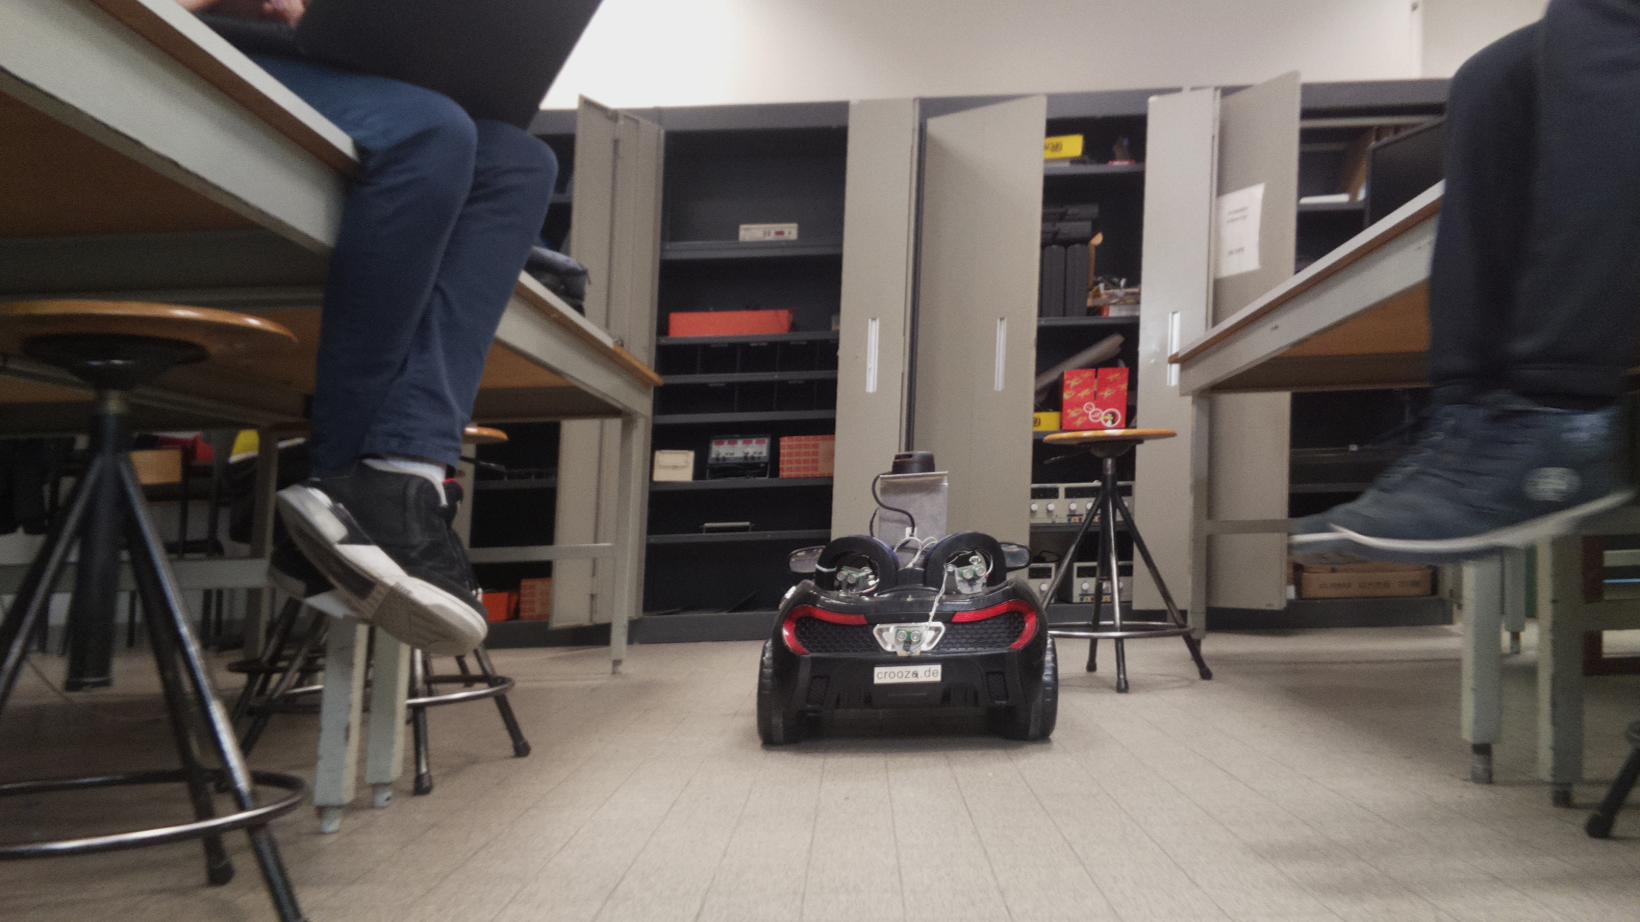big: (748, 532, 1066, 750)
